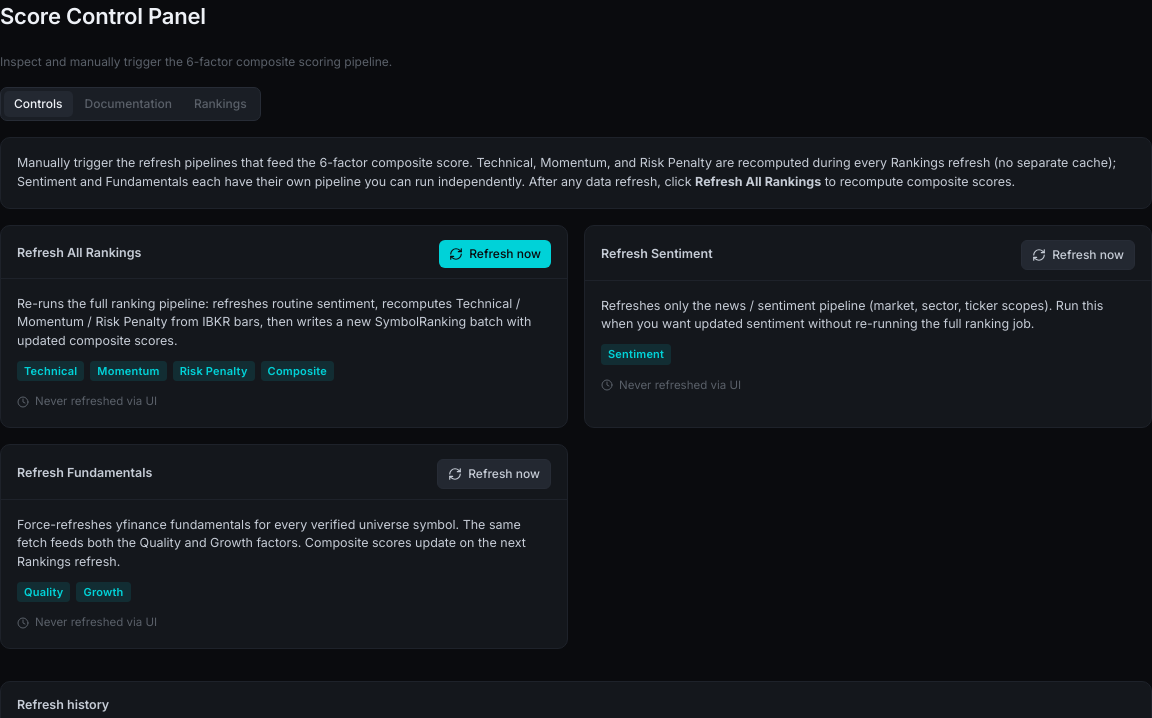
Test: renders parameter docs with weights pulled from the API
Click the tab "Documentation": (128, 104) 74,91 -> 182,117
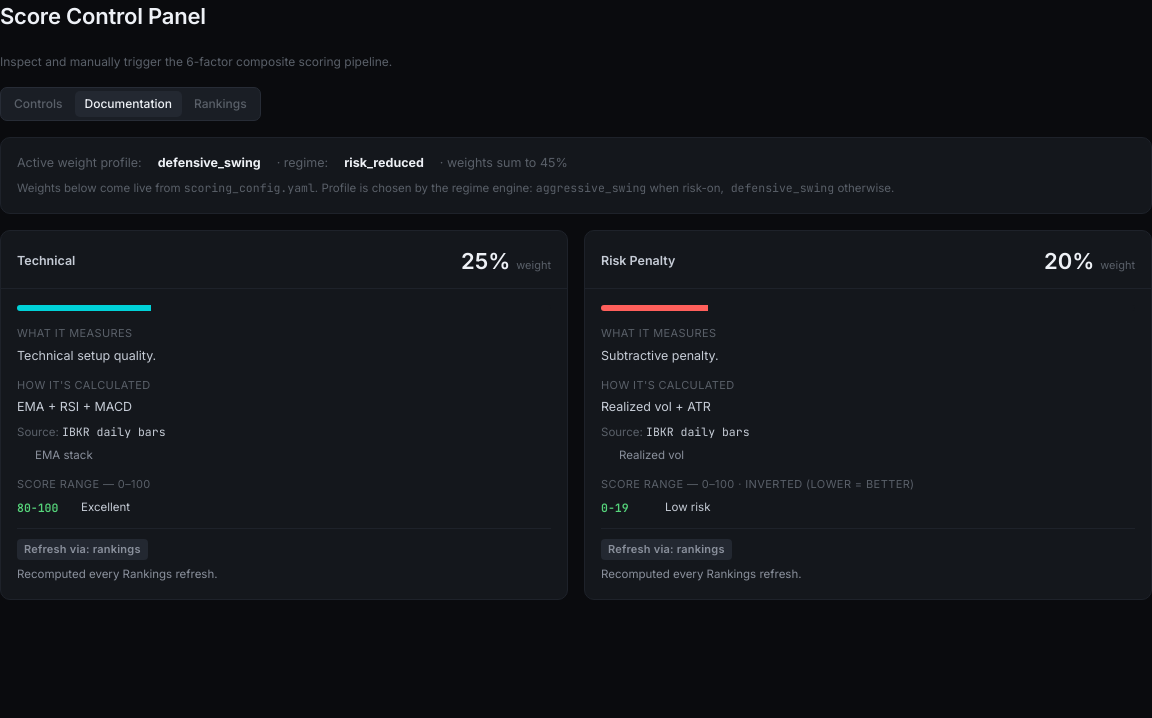
Check: the text "25%" is shown, box 461,245 -> 510,278
Check: the text "20%" is shown, box 1044,245 -> 1094,278
Check: the text "Score range — 0–100 · inverted (lower = better)" is shown, box 601,477 -> 914,491
